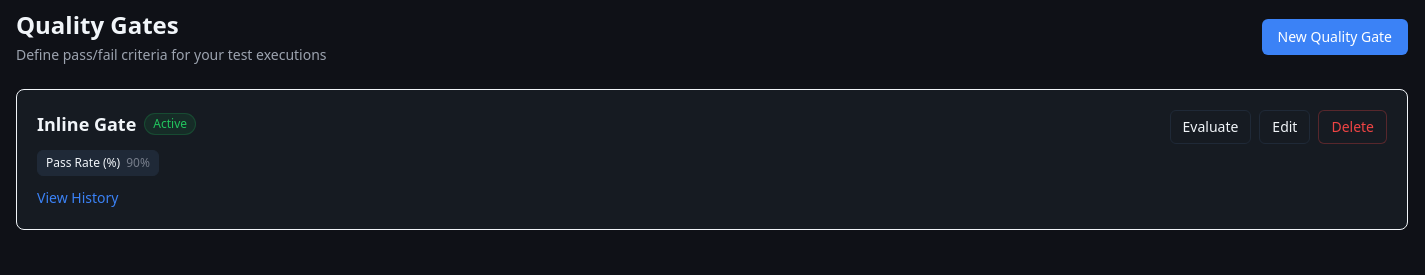
Test: QualityGatesPage › shows inline error message when evaluate mutation fails
Step 1. Click the button "Evaluate" → (1210, 127), box [1170, 110, 1251, 144]
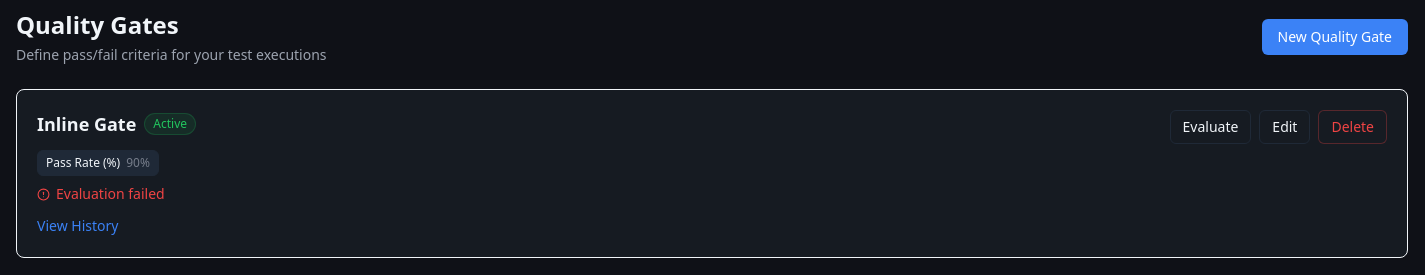
Check: the text "Evaluation failed" is shown, box [37, 184, 165, 203]
